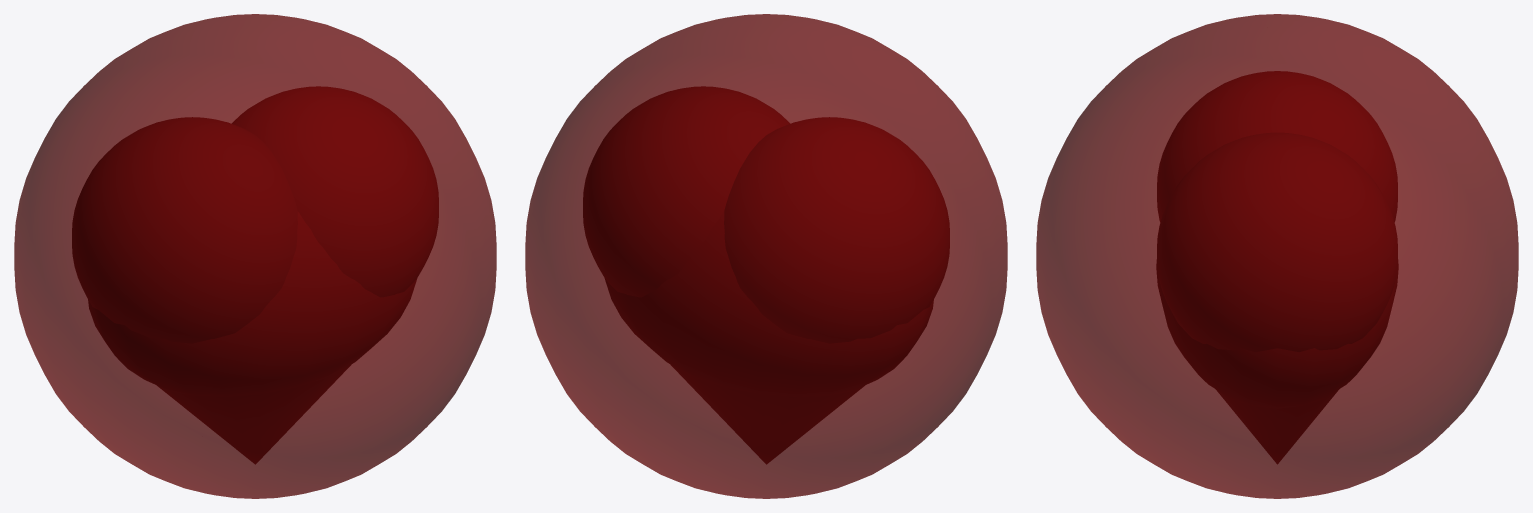
Rendered from HealthOrb.fbx.
3 views of the same model, side by side, from view 1: azimuth 30°, elevation 25°; view 2: azimuth 150°, elevation 25°; view 3: azimuth 270°, elevation 25° (orthographic).
Parts seen in each view (by area): view 1: HealthOrb, RightAtrium, LeftAtrium, Atriums, Ventricles; view 2: HealthOrb, RightAtrium, LeftAtrium, Atriums, Ventricles; view 3: HealthOrb, LeftAtrium, RightAtrium, Atriums, Ventricles.
Boxes of the visible parts, x1,y1,x2,y2 form: HealthOrb: (14, 14, 496, 498); RightAtrium: (72, 117, 297, 343); LeftAtrium: (232, 86, 438, 297); Atriums: (88, 212, 417, 396); Ventricles: (157, 365, 350, 464); HealthOrb: (525, 14, 1007, 498); RightAtrium: (724, 117, 949, 343); LeftAtrium: (583, 86, 789, 297); Atriums: (604, 212, 933, 396); Ventricles: (671, 365, 864, 464); HealthOrb: (1036, 14, 1518, 498); LeftAtrium: (1157, 132, 1397, 351); RightAtrium: (1157, 71, 1397, 221); Atriums: (1156, 260, 1398, 408); Ventricles: (1216, 390, 1338, 464).
Size of the model in its own units: 1 by 1 by 0.9945.
